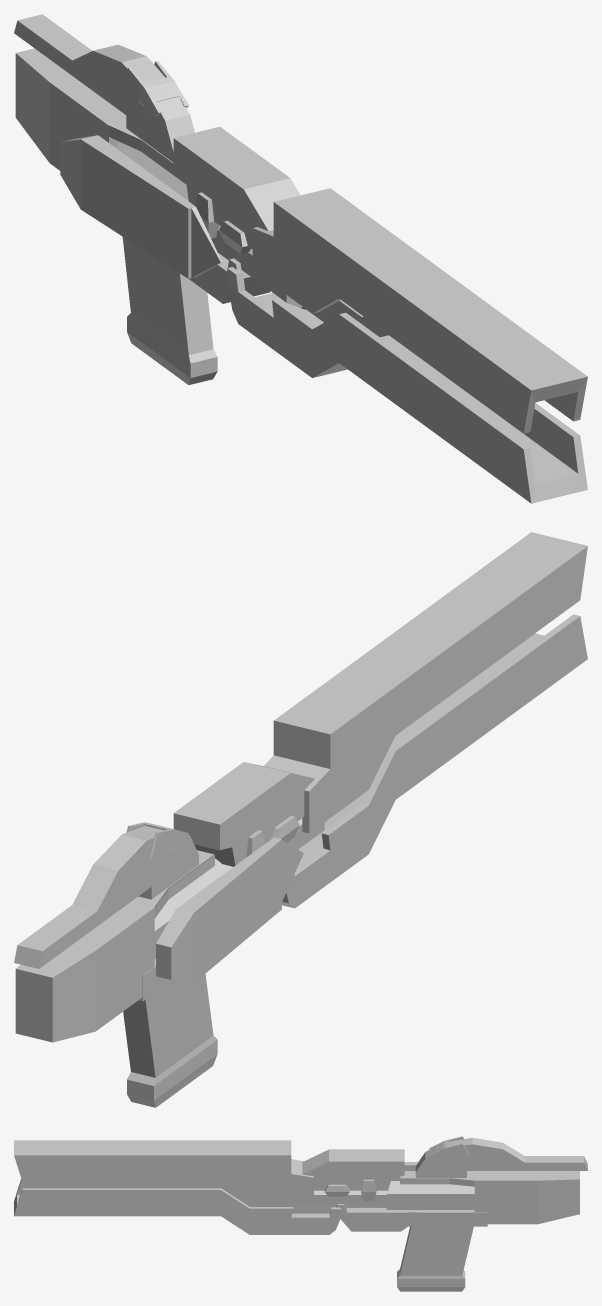
File: cannonFin.fbx
3 views of the same model, one above another, from view 1: azimuth 30°, elevation 25°; view 2: azimuth 150°, elevation 25°; view 3: azimuth 270°, elevation 25° (orthographic). The views are drawn at different scales.
Visible parts, largest first — view 1: Cannon; view 2: Cannon; view 3: Cannon.
Boxes of the visible parts, <box> form: Cannon: <box>14,14,587,503</box>; Cannon: <box>14,532,587,1107</box>; Cannon: <box>14,1136,587,1291</box>.
Size of the model in its own units: 2.1 by 6.5 by 22.79.
2 materials, 1 textured.
